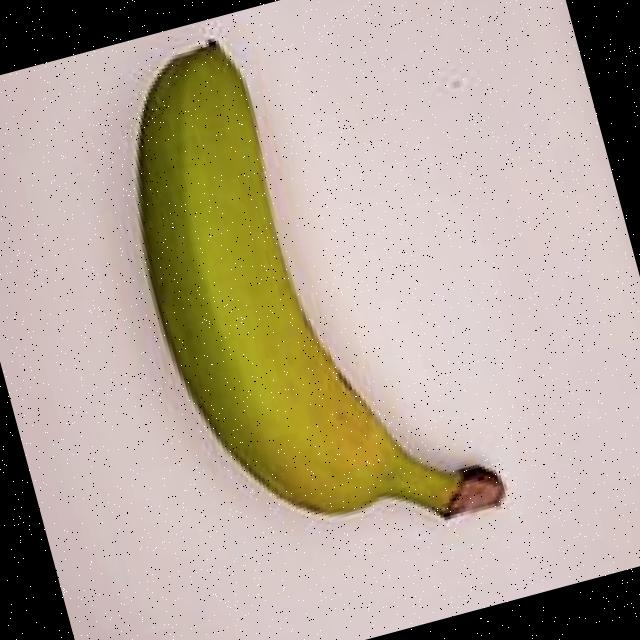Unripe: (76, 0, 539, 619)
